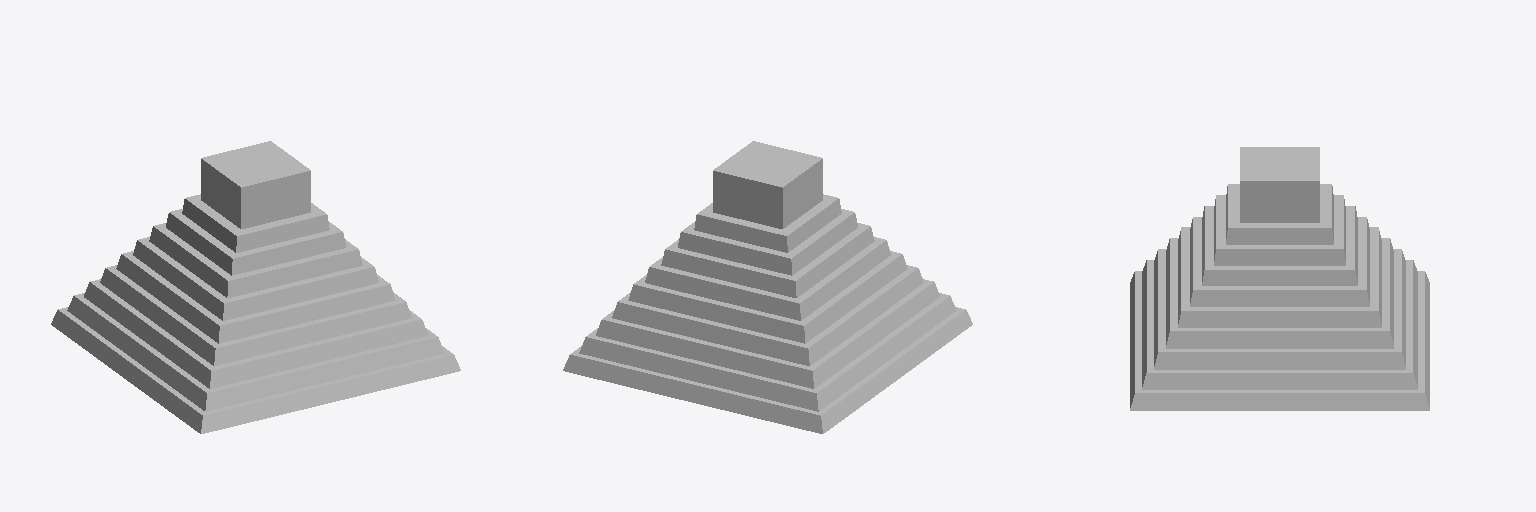
The model's file is mayaTemple.obj.
The picture shows the model from 3 angles: view 1: azimuth 30°, elevation 25°; view 2: azimuth 150°, elevation 25°; view 3: azimuth 270°, elevation 25°; orthographic projection.
Parts seen in each view (by area): view 1: Cube, Cube.001, Cube.002, Cube.009, Cube.003, Cube.004, Cube.005, Cube.006, Cube.007, Cube.008; view 2: Cube, Cube.001, Cube.002, Cube.009, Cube.003, Cube.004, Cube.005, Cube.006, Cube.007, Cube.008; view 3: Cube, Cube.001, Cube.002, Cube.003, Cube.004, Cube.009, Cube.005, Cube.006, Cube.007, Cube.008.
Part boxes in pixels (left/top/right/bottom): Cube: left=51, top=307, right=460, bottom=433; Cube.001: left=67, top=293, right=444, bottom=411; Cube.002: left=84, top=279, right=427, bottom=388; Cube.009: left=201, top=141, right=310, bottom=228; Cube.003: left=100, top=265, right=411, bottom=365; Cube.004: left=116, top=251, right=395, bottom=343; Cube.005: left=133, top=237, right=378, bottom=320; Cube.006: left=149, top=223, right=362, bottom=297; Cube.007: left=166, top=209, right=345, bottom=275; Cube.008: left=182, top=194, right=329, bottom=252; Cube: left=563, top=307, right=972, bottom=433; Cube.001: left=579, top=293, right=956, bottom=411; Cube.002: left=596, top=279, right=939, bottom=388; Cube.009: left=713, top=141, right=822, bottom=228; Cube.003: left=612, top=265, right=923, bottom=365; Cube.004: left=628, top=251, right=907, bottom=343; Cube.005: left=645, top=237, right=890, bottom=320; Cube.006: left=661, top=223, right=874, bottom=297; Cube.007: left=678, top=209, right=857, bottom=275; Cube.008: left=694, top=194, right=841, bottom=252; Cube: left=1130, top=271, right=1429, bottom=410; Cube.001: left=1142, top=260, right=1417, bottom=389; Cube.002: left=1154, top=249, right=1405, bottom=369; Cube.003: left=1166, top=238, right=1393, bottom=348; Cube.004: left=1178, top=227, right=1381, bottom=327; Cube.009: left=1240, top=147, right=1319, bottom=222; Cube.005: left=1190, top=217, right=1369, bottom=306; Cube.006: left=1202, top=206, right=1357, bottom=285; Cube.007: left=1214, top=195, right=1345, bottom=265; Cube.008: left=1226, top=184, right=1333, bottom=244.
Size of the model in its own units: 52 by 35 by 52.